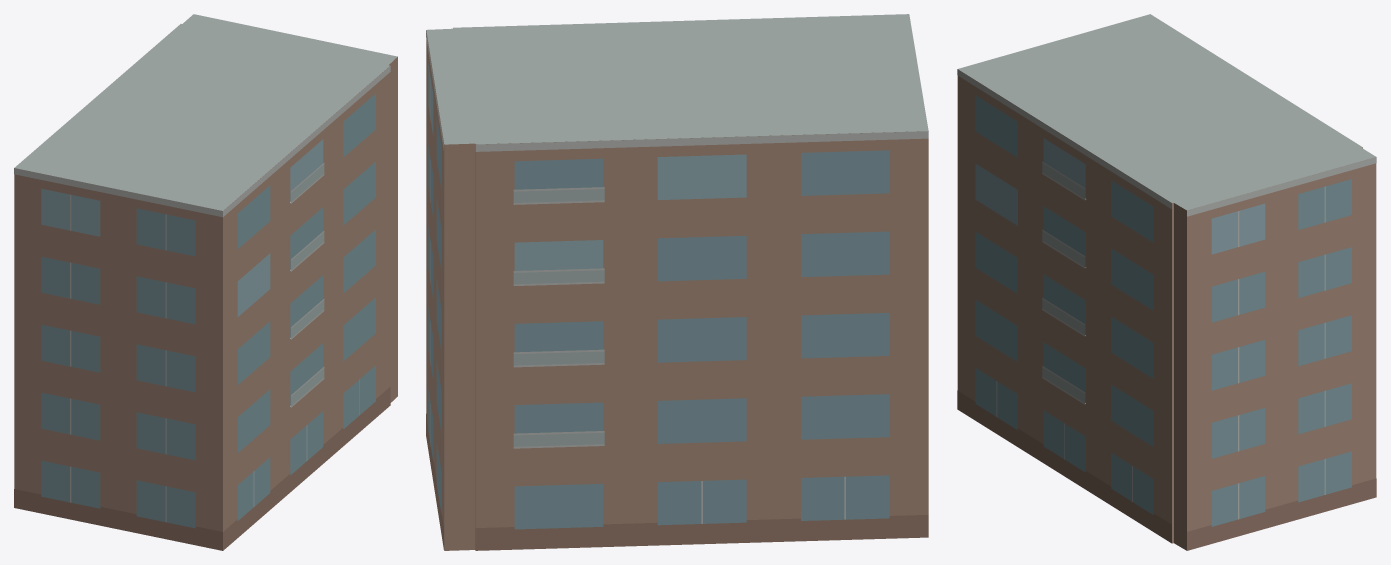
File: survey-upis-32963604.glb
3 views of the same model, side by side, from view 1: azimuth 30°, elevation 25°; view 2: azimuth 150°, elevation 25°; view 3: azimuth 270°, elevation 25° (orthographic). The views are drawn at different scales.
Visible parts, largest first — view 1: survey-upis-32963604.tmp; view 2: survey-upis-32963604.tmp; view 3: survey-upis-32963604.tmp.
Boxes of the visible parts, x1=… form: survey-upis-32963604.tmp: x1=14, y1=14, x2=397, y2=550; survey-upis-32963604.tmp: x1=426, y1=14, x2=928, y2=550; survey-upis-32963604.tmp: x1=957, y1=14, x2=1376, y2=550.
Size of the model in its own units: 16.35 by 13.2 by 14.73.
